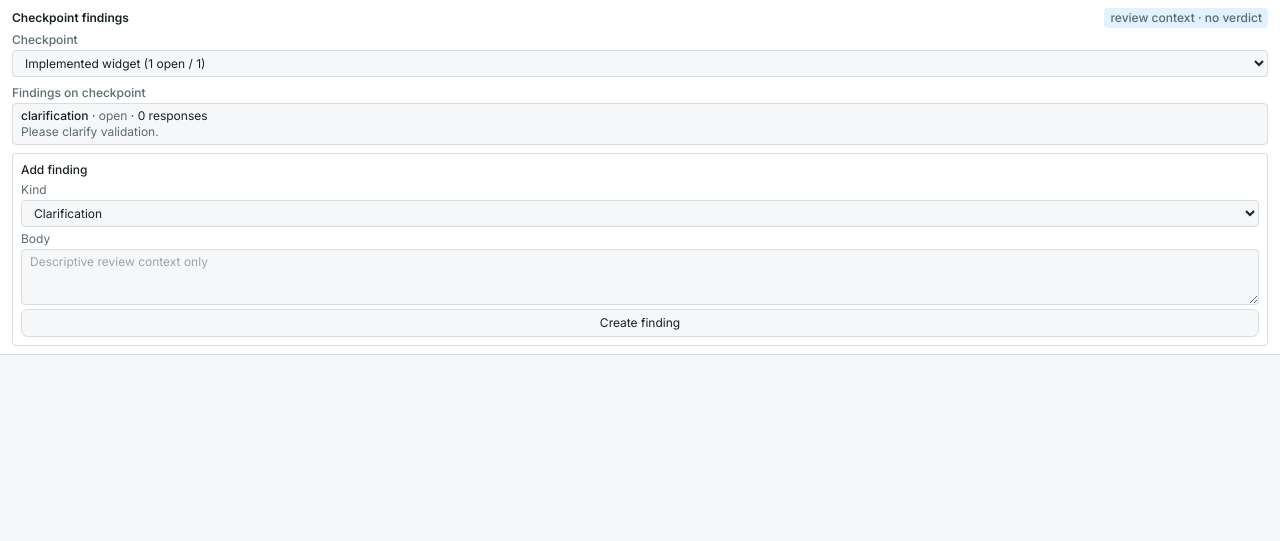
Test: CheckpointFindingsPanel behavior › does not render approval or rejection controls
This screenshot has width=1280, height=541.
Expected: the text "Please clarify validation." is shown, top-left (21, 124), bottom-right (159, 139)
Step 1. Click the button "Please clarify validation" → (55, 116), box top-left (12, 103), bottom-right (1268, 145)
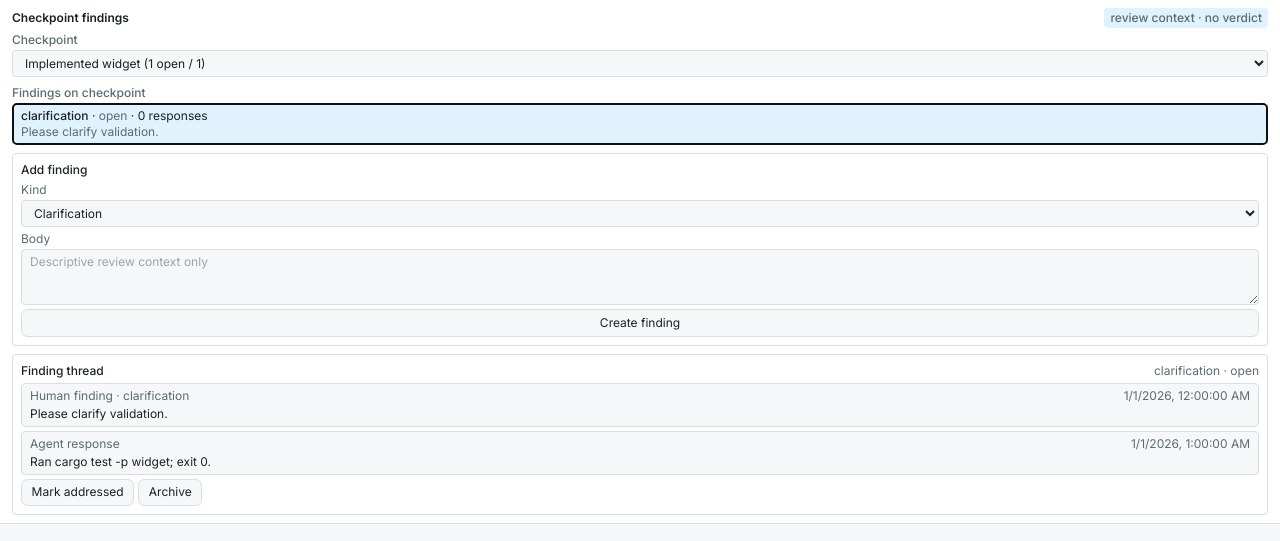
Expected: the text "review context · no verdict" is shown, top-left (1104, 8), bottom-right (1268, 28)
Expected: the text "Finding thread" is shown, top-left (21, 363), bottom-right (104, 379)
